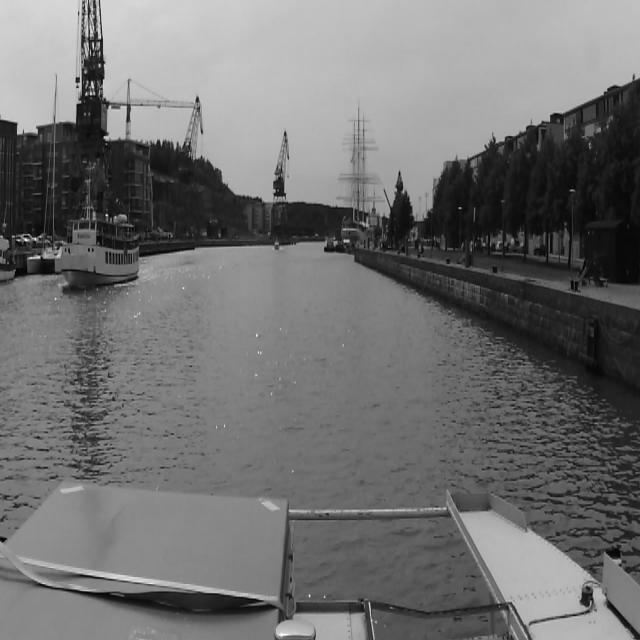ship: (22, 70, 58, 267), (56, 196, 138, 282), (336, 92, 374, 256), (0, 239, 16, 281), (326, 236, 335, 252), (274, 239, 280, 249)
